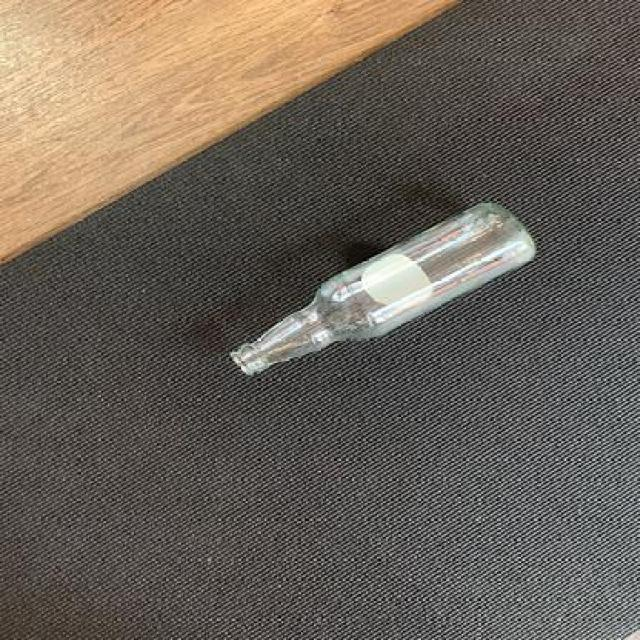trash: (223, 200, 546, 378)
